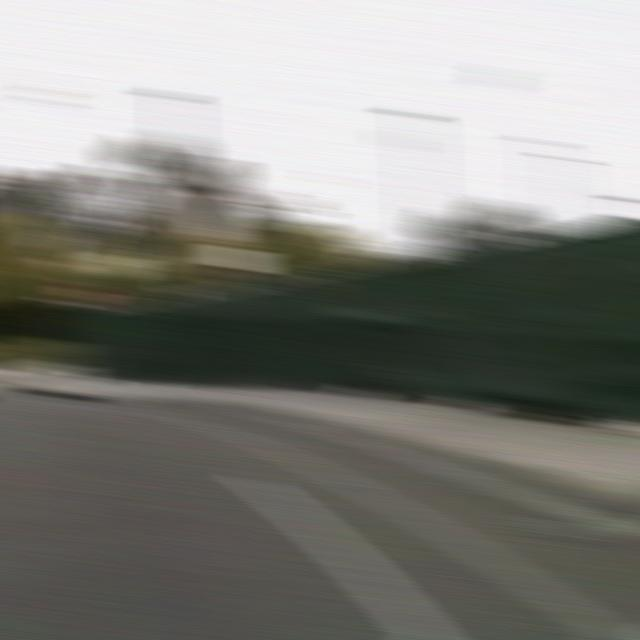stop_sign: (65, 278, 106, 310)
